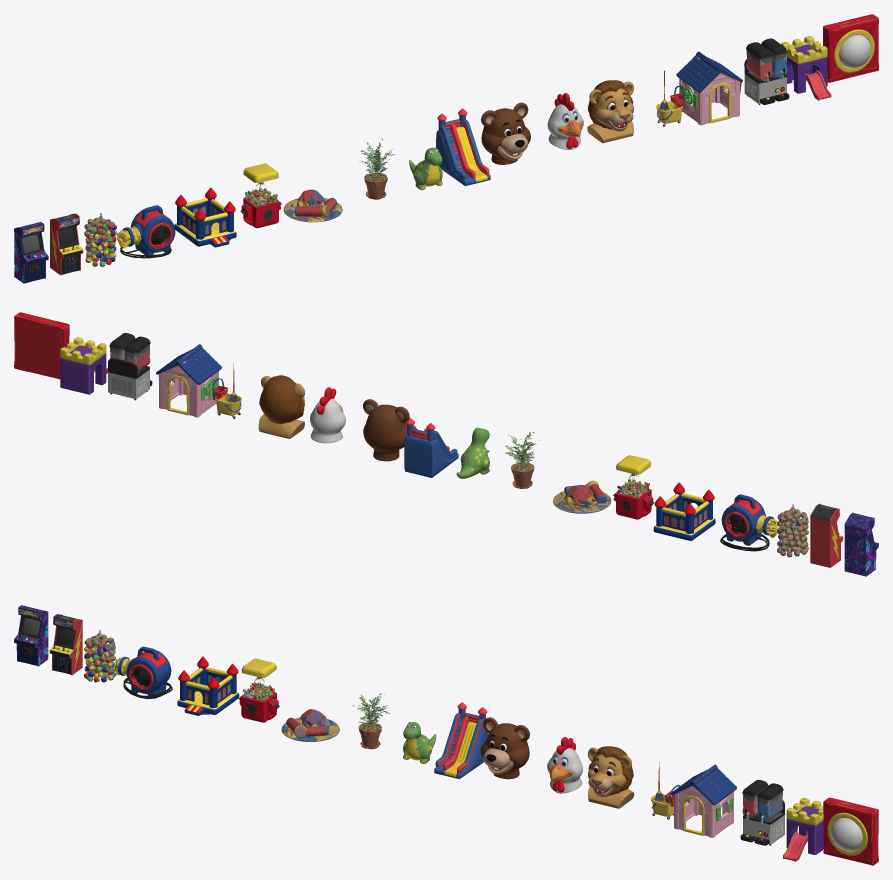
Rendered from Level6PropKit.glb.
3 views of the same model, one above another, from view 1: azimuth 30°, elevation 25°; view 2: azimuth 150°, elevation 25°; view 3: azimuth 330°, elevation 25° (orthographic).
Parts seen in each view (by area): view 1: playhouse, tube_window_panel, inflatable_slide, bouncy_castle, slush_machine, mascot_head_dog, mascot_head_bear, blower_fan, toddler_castle, claw_machine, arcade_cabinet_a, arcade_cabinet_b (+6 smaller); view 2: playhouse, tube_window_panel, mascot_head_dog, slush_machine, bouncy_castle, toddler_castle, blower_fan, mascot_head_bear, inflatable_slide, arcade_cabinet_a, claw_machine, arcade_cabinet_b (+6 smaller); view 3: tube_window_panel, playhouse, bouncy_castle, inflatable_slide, mascot_head_dog, slush_machine, mascot_head_bear, blower_fan, toddler_castle, claw_machine, arcade_cabinet_a, arcade_cabinet_b (+6 smaller).
Boxes of the visible parts, box(x1,y1,x2,y2) form: playhouse: box(676, 51, 742, 125); tube_window_panel: box(823, 14, 878, 82); inflatable_slide: box(436, 108, 490, 186); bouncy_castle: box(174, 187, 236, 247); slush_machine: box(744, 38, 789, 104); mascot_head_dog: box(587, 80, 633, 143); mascot_head_bear: box(481, 102, 530, 164); blower_fan: box(116, 205, 175, 258); toddler_castle: box(781, 36, 831, 100); claw_machine: box(240, 163, 281, 228); arcade_cabinet_a: box(14, 222, 48, 283); arcade_cabinet_b: box(50, 213, 83, 275); playhouse: box(156, 344, 221, 417); tube_window_panel: box(14, 312, 69, 379); mascot_head_dog: box(258, 375, 304, 438); slush_machine: box(107, 333, 152, 400); bouncy_castle: box(653, 482, 715, 540); toddler_castle: box(60, 337, 107, 394); blower_fan: box(720, 494, 778, 551); mascot_head_bear: box(363, 399, 409, 461); inflatable_slide: box(404, 418, 458, 477); arcade_cabinet_a: box(844, 512, 878, 576); claw_machine: box(613, 455, 654, 519); arcade_cabinet_b: box(810, 503, 843, 567); tube_window_panel: box(823, 797, 878, 865); playhouse: box(671, 764, 736, 837); bouncy_castle: box(177, 656, 239, 715); inflatable_slide: box(434, 702, 488, 779); mascot_head_dog: box(588, 746, 634, 808); slush_machine: box(740, 779, 785, 845); mascot_head_bear: box(480, 717, 529, 779); blower_fan: box(114, 646, 172, 699); toddler_castle: box(783, 797, 823, 861); claw_machine: box(238, 658, 279, 722); arcade_cabinet_a: box(14, 605, 48, 666); arcade_cabinet_b: box(49, 614, 82, 675).
Bounding box in the file's own units: 31.91 × 1.9 × 1.9.
Materials: 18 (18 with a texture image).
